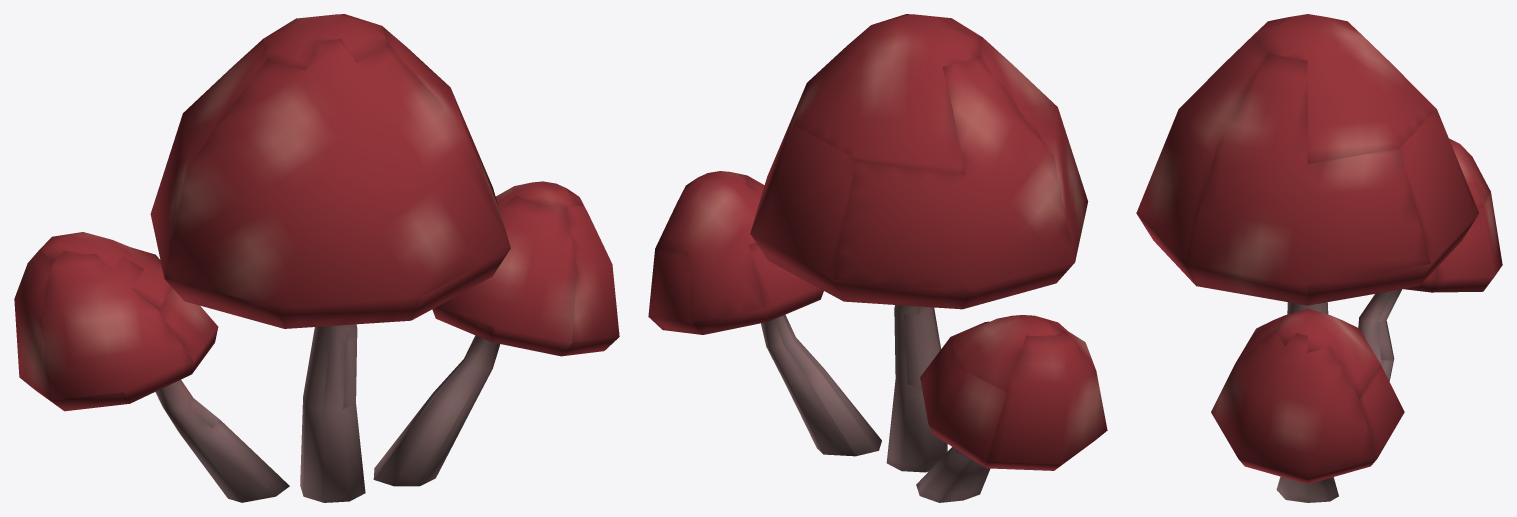
File: Cogumelo2.fbx
3 views of the same model, side by side, from view 1: azimuth 30°, elevation 25°; view 2: azimuth 150°, elevation 25°; view 3: azimuth 270°, elevation 25° (orthographic). The views are drawn at different scales.
Parts seen in each view (by area): view 1: Cogumelo 2; view 2: Cogumelo 2; view 3: Cogumelo 2.
Boxes of the visible parts, x1,y1,x2,y2 form: Cogumelo 2: (14,14,619,502); Cogumelo 2: (648,14,1107,502); Cogumelo 2: (1136,14,1502,502).
Bounding box in the file's own units: 46.04 × 39.66 × 30.48.
